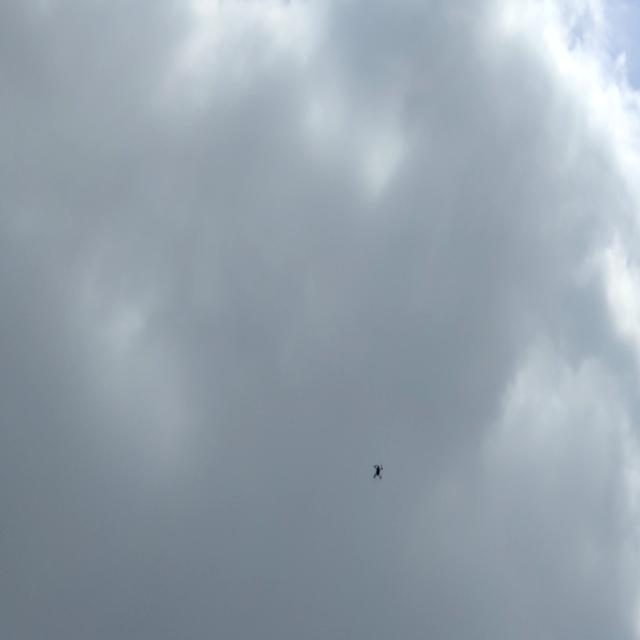drone: (369, 461, 384, 482)
